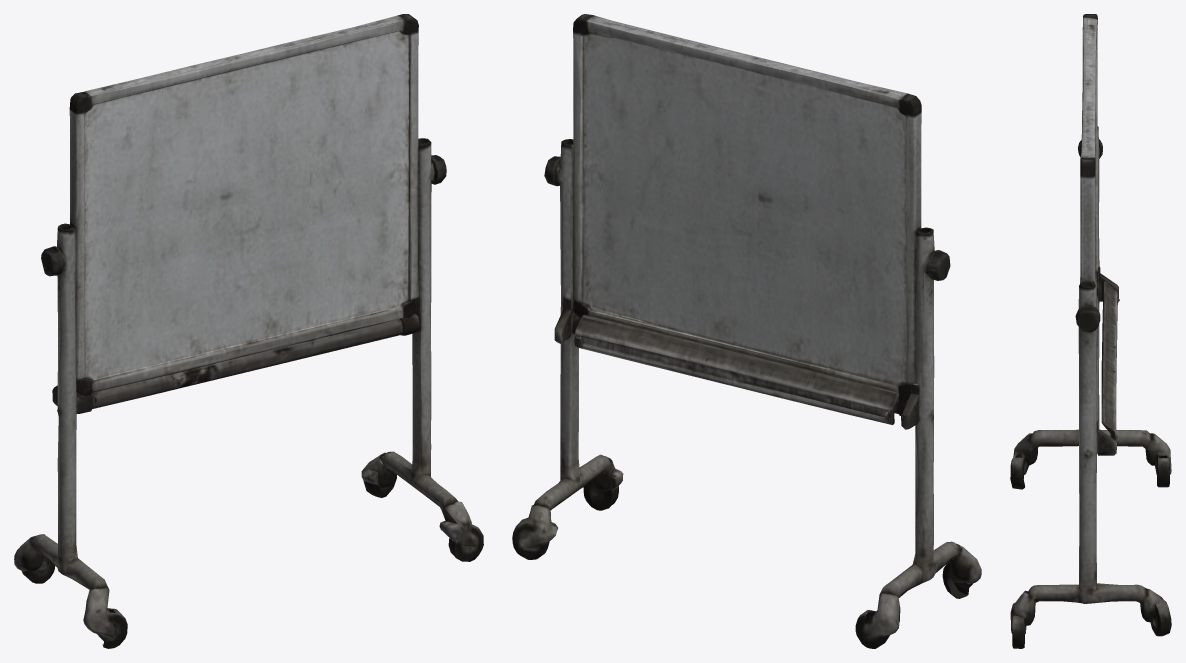
File: p7-mobile-whiteboard.glb
3 views of the same model, side by side, from view 1: azimuth 30°, elevation 25°; view 2: azimuth 150°, elevation 25°; view 3: azimuth 270°, elevation 25° (orthographic). The views are drawn at different scales.
Visible parts, largest first — view 1: p7-mobile-whiteboard; view 2: p7-mobile-whiteboard; view 3: p7-mobile-whiteboard.
Part boxes in pixels (x1,y1,x2,y2): p7-mobile-whiteboard: [14, 14, 483, 648]; p7-mobile-whiteboard: [512, 14, 981, 648]; p7-mobile-whiteboard: [1010, 14, 1171, 648].
Size of the model in its own units: 1.43 by 1.8 by 0.55.
1 material, 1 textured.
